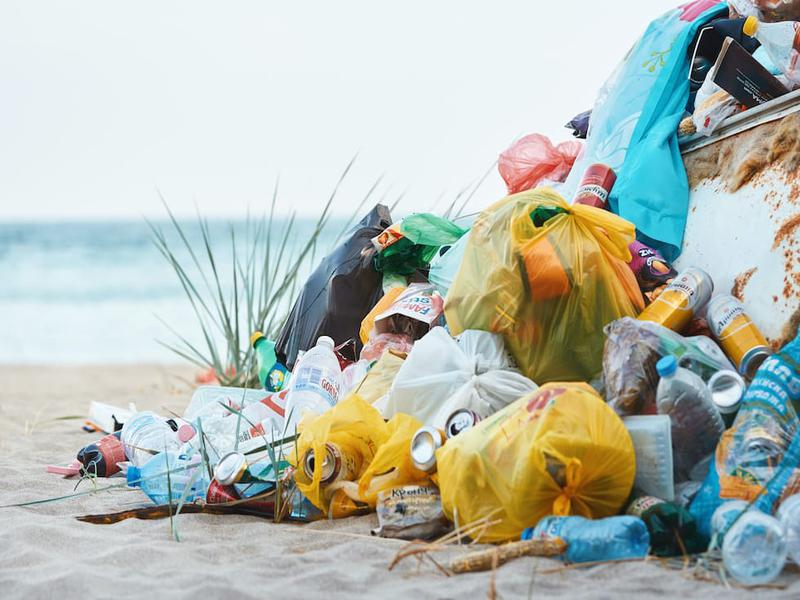bottle: (517, 510, 661, 566)
can: (704, 292, 774, 379), (636, 264, 714, 332)
plastic: (442, 185, 643, 387), (437, 381, 638, 546), (265, 189, 433, 373), (286, 406, 436, 514), (379, 324, 539, 414), (368, 214, 471, 283), (488, 125, 578, 192)
